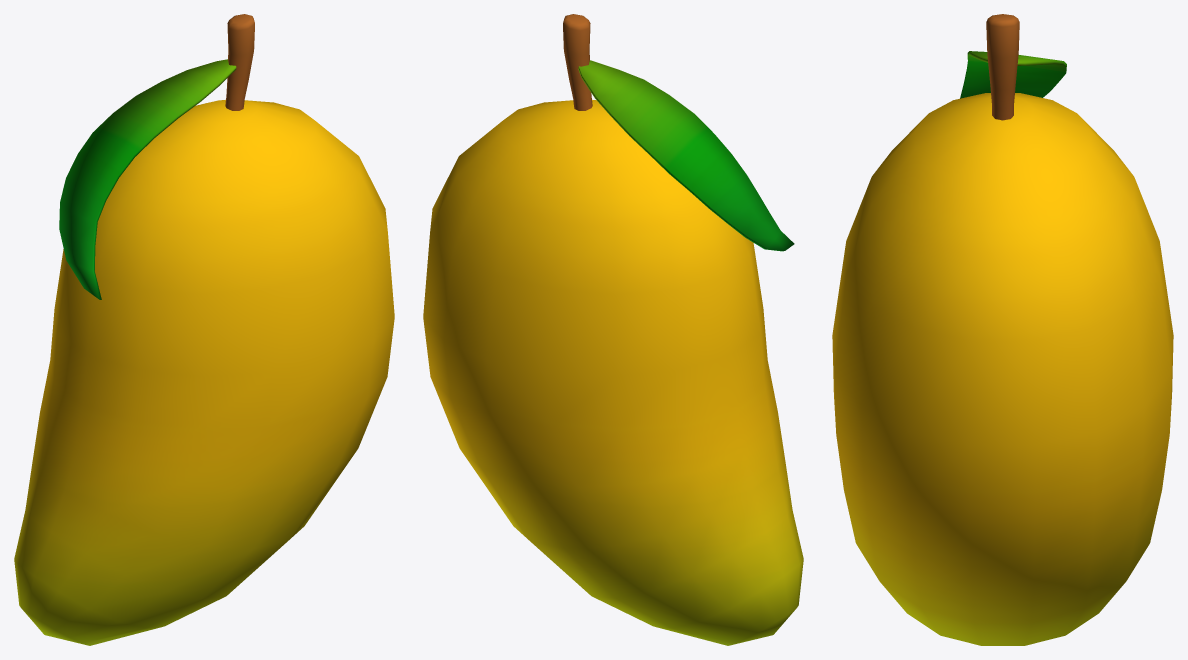
The model's file is Mango.fbx.
The picture shows the model from 3 angles, left to right: view 1: azimuth 30°, elevation 25°; view 2: azimuth 150°, elevation 25°; view 3: azimuth 270°, elevation 25°; orthographic projection. The views are drawn at different scales.
Parts seen in each view (by area): view 1: Mango; view 2: Mango; view 3: Mango.
Part boxes in pixels (x1=…): Mango: x1=14, y1=14, x2=394, y2=645; Mango: x1=423, y1=14, x2=803, y2=645; Mango: x1=832, y1=14, x2=1173, y2=645.
Bounding box in the file's own units: 1.96 × 3.1 × 1.4.
1 material, 1 textured.
